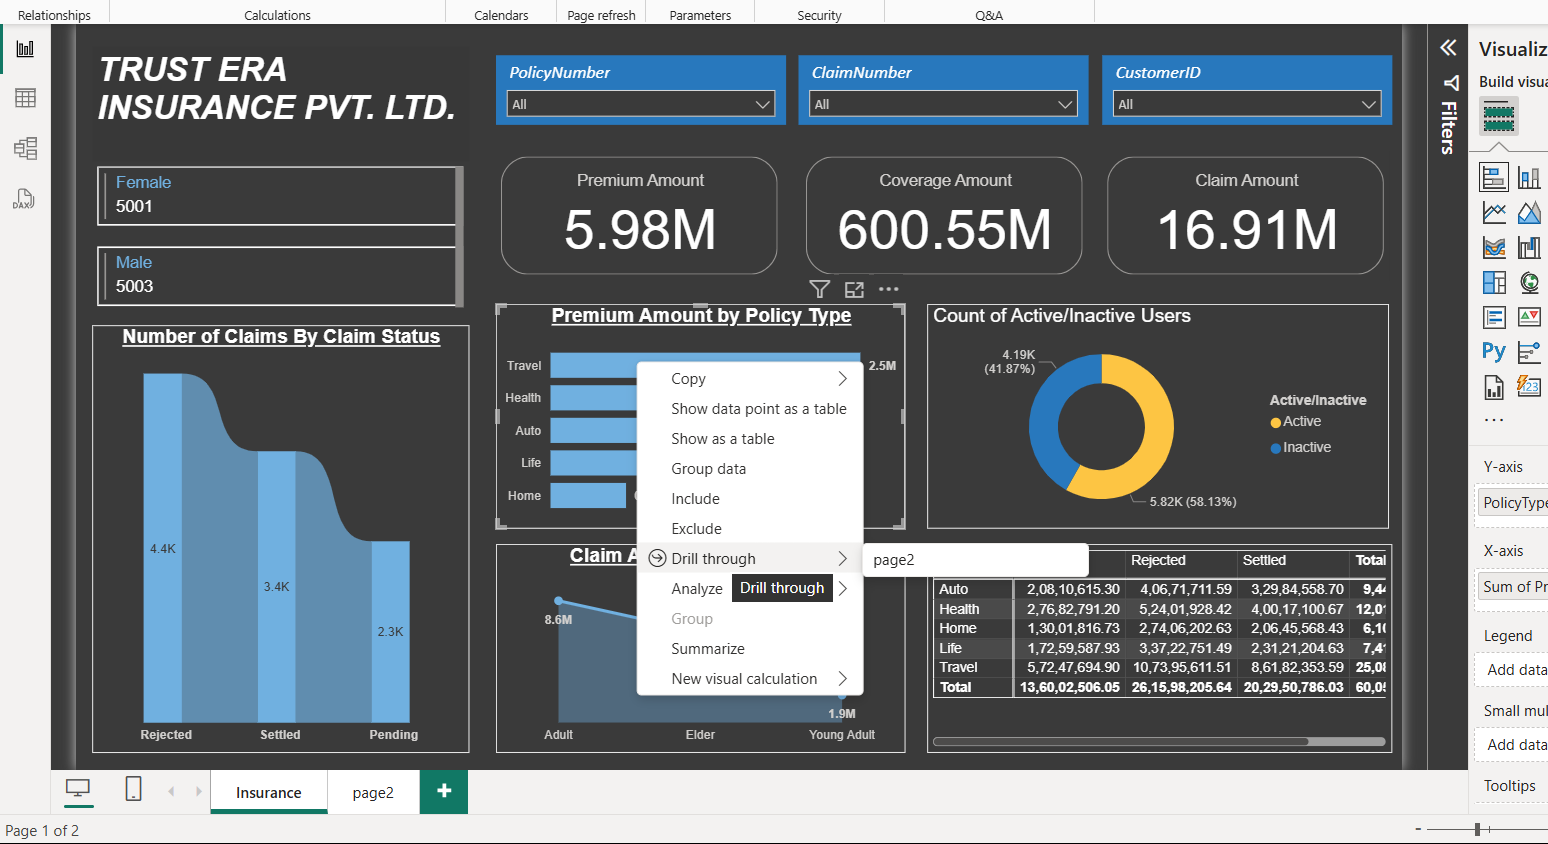

This screenshot's page, from the dashboard's own definition file:
{"tool":"powerbi","page":{"name":"Insurance","canvas":[1280,720],"ordinal":0},"visuals":[{"type":"slicer","fields":{"Values":["InsuranceData.PolicyNumber"]},"box":[404.8,30.2,279.9,67.2],"z":0},{"type":"slicer","fields":{"Values":["InsuranceData.ClaimNumber"]},"box":[697.1,30.2,279.9,67.2],"z":1000},{"type":"slicer","fields":{"Values":["InsuranceData.CustomerID"]},"box":[990.7,30.2,279.9,67.2],"z":2000},{"type":"textbox","box":[15.1,22,363.6,111.1],"z":3000},{"type":"cardVisual","fields":{"Data":["Sum(InsuranceData.CoverageAmount)"]},"box":[699.8,123.5,277.2,124.9],"z":4000},{"type":"cardVisual","fields":{"Data":["Sum(InsuranceData.ClaimAmount)"]},"box":[990.7,123.5,277.2,124.9],"z":5000},{"type":"cardVisual","fields":{"Data":["Sum(InsuranceData.PremiumAmount)"]},"box":[404.8,123.5,277.2,124.9],"z":6000},{"type":"multiRowCard","fields":{"Values":["InsuranceData.Gender","CountNonNull(InsuranceData.Gender)"]},"box":[15.1,133.1,363.6,157.8],"z":7000},{"type":"ribbonChart","title":"Number of Claims By Claim Status","fields":{"Category":["InsuranceData.ClaimStatus"],"Y":["CountNonNull(InsuranceData.ClaimStatus)"]},"box":[15.1,290.9,363.6,413],"z":8000},{"type":"barChart","title":"Premium Amount by Policy Type","fields":{"Category":["InsuranceData.PolicyType"],"Y":["Sum(InsuranceData.PremiumAmount)"]},"box":[404.8,270.3,395.2,216.8],"z":9000},{"type":"lineChart","title":"Claim Amount by Age Group","fields":{"Category":["InsuranceData.Age Group"],"Y":["Sum(InsuranceData.ClaimAmount)"]},"box":[404.8,502.2,395.2,201.7],"z":10000},{"type":"donutChart","title":"Count of Active/Inactive Users","fields":{"Y":["CountNonNull(InsuranceData.Active/Inactive)"],"Category":["InsuranceData.Active/Inactive"]},"box":[822,270.3,446,216.8],"z":11000},{"type":"pivotTable","fields":{"Rows":["InsuranceData.PolicyType"],"Columns":["InsuranceData.ClaimStatus"],"Values":["Sum(InsuranceData.CoverageAmount)"]},"box":[822,502.2,448.7,201.7],"z":12000}]}

Visuals, with their boxes on the page's 1280x720 design canvas (x1, y1, x2, y2). These are canvas units, not pixel positions in the 1548x844 screenshot, which may show the page scaled, cropped or inside an application window:
slicer - InsuranceData.PolicyNumber: (405, 30, 685, 97)
slicer - InsuranceData.ClaimNumber: (697, 30, 977, 97)
slicer - InsuranceData.CustomerID: (991, 30, 1271, 97)
textbox: (15, 22, 379, 133)
cardVisual - Sum(InsuranceData.CoverageAmount): (700, 124, 977, 248)
cardVisual - Sum(InsuranceData.ClaimAmount): (991, 124, 1268, 248)
cardVisual - Sum(InsuranceData.PremiumAmount): (405, 124, 682, 248)
multiRowCard - InsuranceData.Gender x CountNonNull(InsuranceData.Gender): (15, 133, 379, 291)
"Number of Claims By Claim Status" ribbonChart: (15, 291, 379, 704)
"Premium Amount by Policy Type" barChart: (405, 270, 800, 487)
"Claim Amount by Age Group" lineChart: (405, 502, 800, 704)
"Count of Active/Inactive Users" donutChart: (822, 270, 1268, 487)
pivotTable - InsuranceData.PolicyType x InsuranceData.ClaimStatus: (822, 502, 1271, 704)
